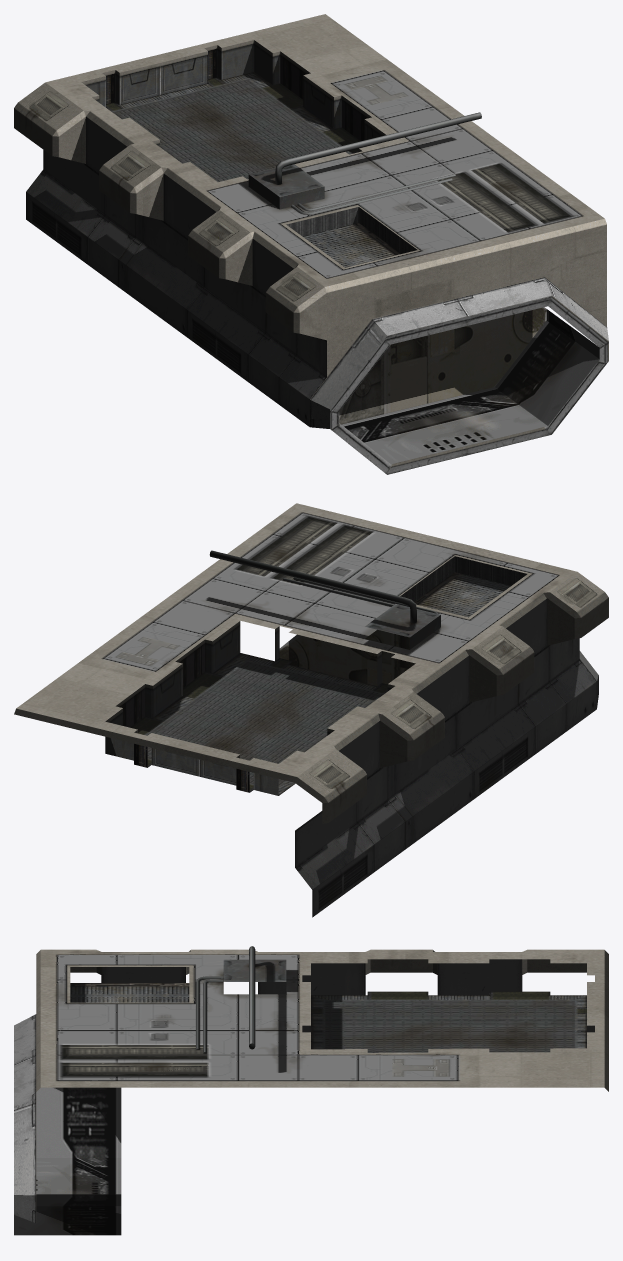
Rendered from ML2_Station_R.FBX.
3 renders of one model, top to bottom at view 1: azimuth 30°, elevation 25°; view 2: azimuth 150°, elevation 25°; view 3: azimuth 270°, elevation 25°, orthographic.
Parts seen in each view (by area): view 1: ML2_Station_R; view 2: ML2_Station_R; view 3: ML2_Station_R.
Part boxes in pixels (left/top/right/bottom): ML2_Station_R: left=14, top=14, right=608, bottom=474; ML2_Station_R: left=14, top=503, right=608, bottom=917; ML2_Station_R: left=14, top=946, right=608, bottom=1235.
Bounding box in the file's own units: 10.38 × 7.16 × 17.03.
Materials: 1 (1 with a texture image).
